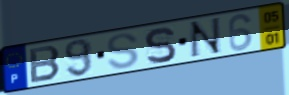6: (226, 12, 256, 53)
9: (63, 38, 95, 79)
B: (28, 44, 63, 85)
N: (188, 16, 224, 61)
S: (142, 26, 178, 66), (105, 32, 141, 71)
